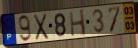3: (92, 8, 106, 35)
7: (108, 6, 122, 34)
8: (54, 12, 68, 38)
9: (18, 15, 33, 44)
H: (68, 9, 87, 38)
X: (33, 12, 50, 42)
